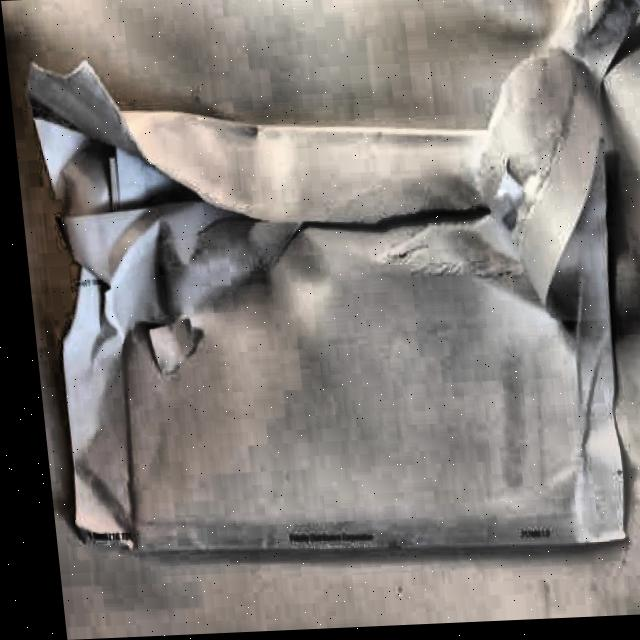paper: (14, 0, 640, 574)
